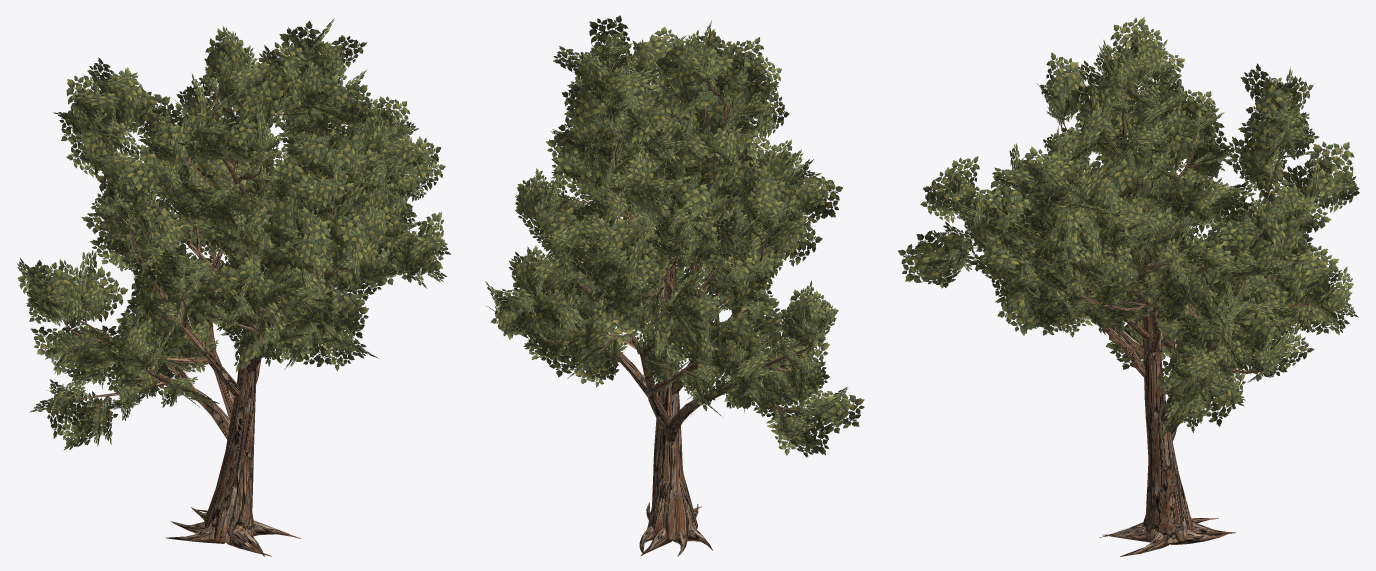
File: tree8.glb
3 renders of one model, left to right at view 1: azimuth 30°, elevation 25°; view 2: azimuth 150°, elevation 25°; view 3: azimuth 270°, elevation 25°, orthographic. The views are drawn at different scales.
Visible parts, largest first — view 1: tree8_Medium, tree8_LowMesh; view 2: tree8_Medium, tree8_LowMesh; view 3: tree8_Medium, tree8_LowMesh.
Part boxes in pixels (x1=…): tree8_Medium: x1=17, y1=18, x2=450, y2=556; tree8_LowMesh: x1=17, y1=26, x2=433, y2=556; tree8_Medium: x1=485, y1=15, x2=864, y2=556; tree8_LowMesh: x1=490, y1=29, x2=832, y2=555; tree8_Medium: x1=898, y1=17, x2=1359, y2=556; tree8_LowMesh: x1=916, y1=29, x2=1359, y2=556.
Bounding box in the file's own units: 37.37 × 52.14 × 42.62.
Materials: 4 (4 with a texture image).
